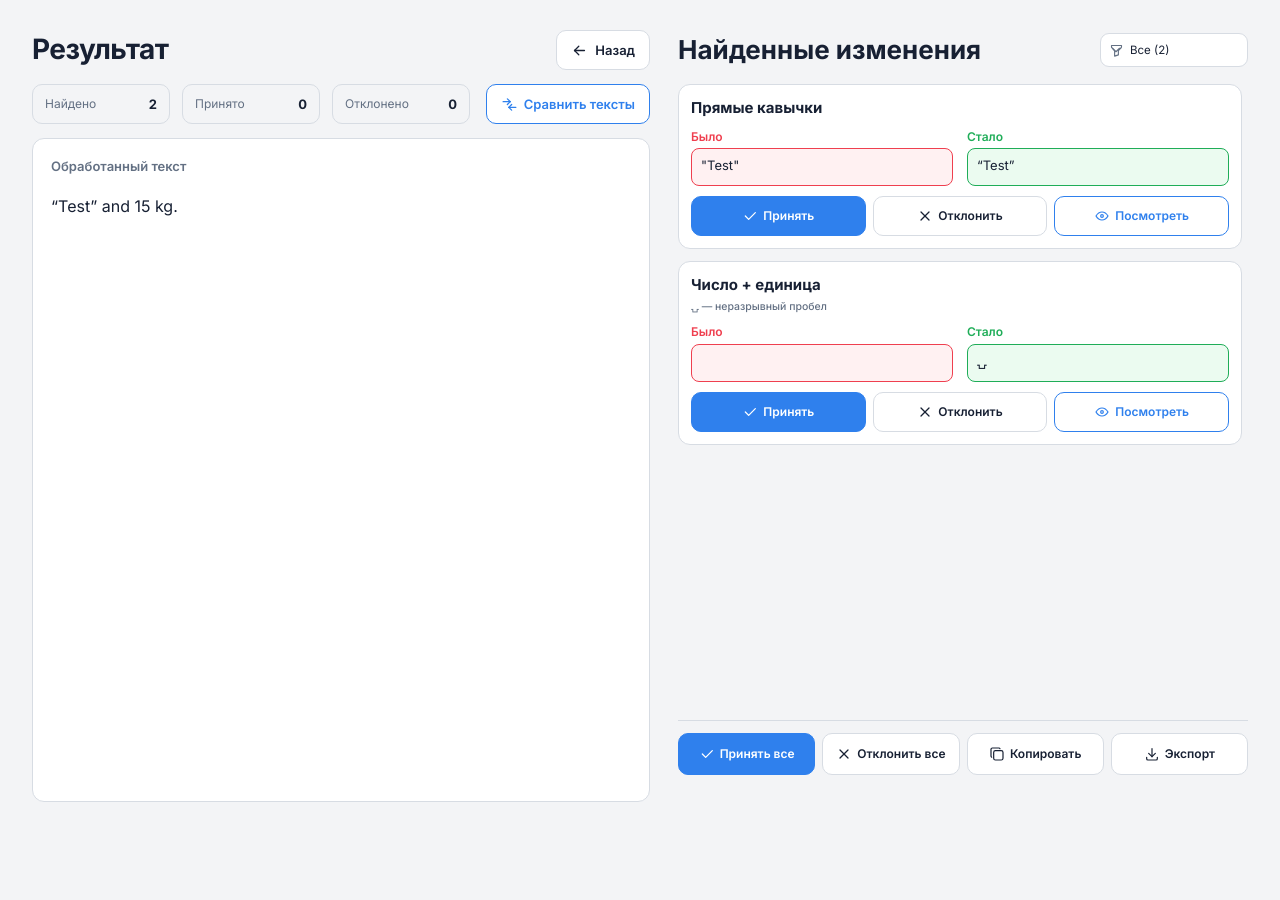
Requirement 2: review and decision workflow › Apply all accepts every change and shows confirmation
The width and height of the screenshot is (1280, 900).
Click the button "Принять все".
click(747, 754)  # box [678, 733, 815, 775]
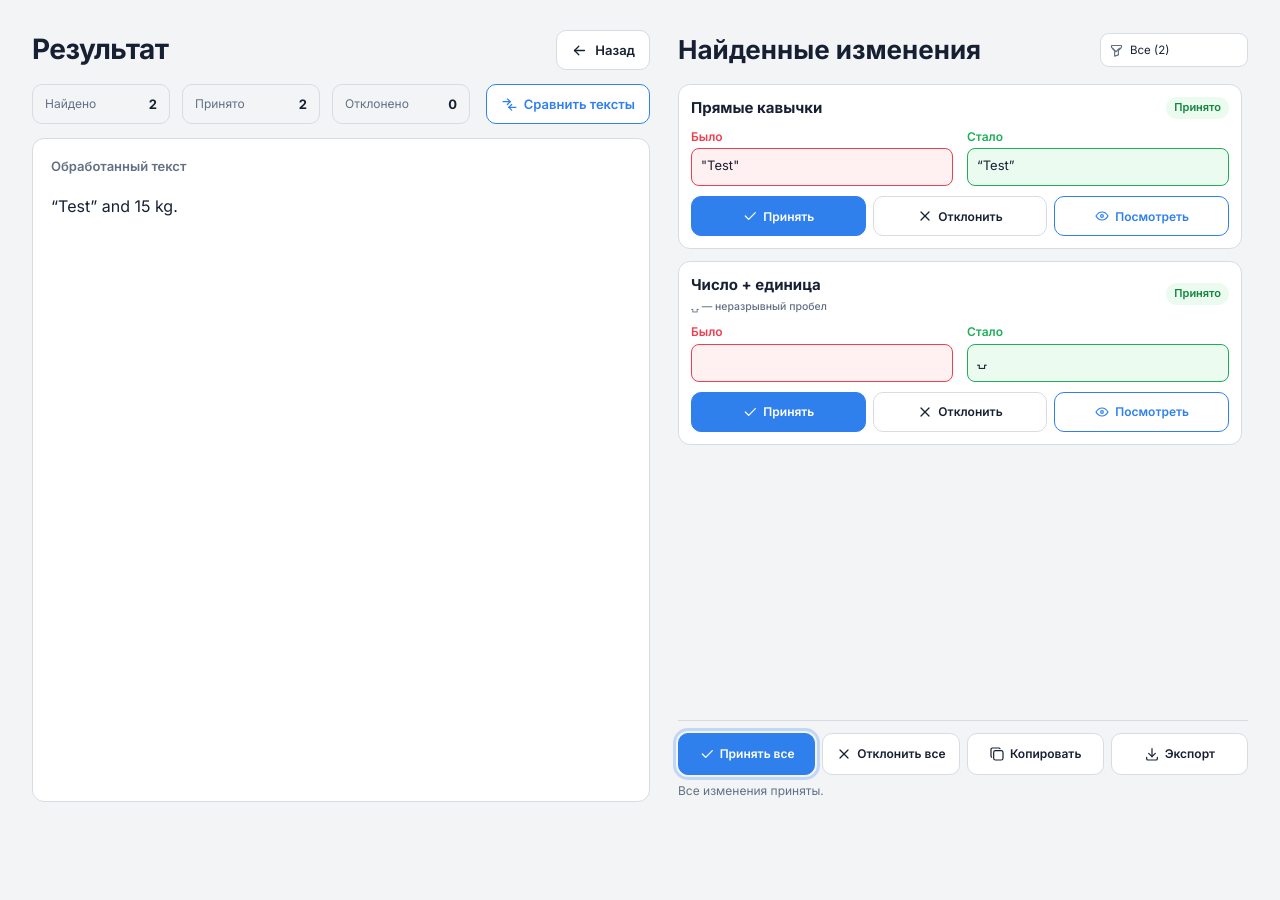
Check: the number of elements with class "decision-badge--accepted" is 2, box [1166, 97, 1229, 119]; [1166, 283, 1229, 305]
Check: the text "Все изменения приняты." is shown, box [678, 783, 824, 798]
